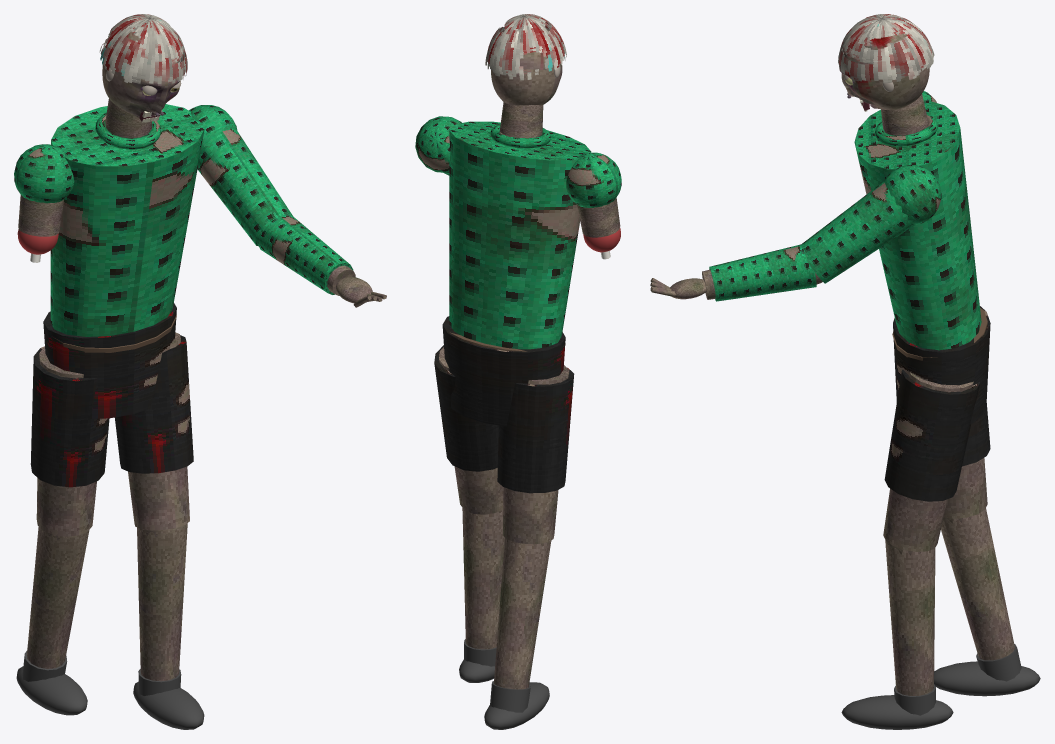
File: Zombie_130.glb
The picture shows the model from 3 angles, left to right: view 1: azimuth 30°, elevation 25°; view 2: azimuth 150°, elevation 25°; view 3: azimuth 270°, elevation 25°; orthographic projection. The views are drawn at different scales.
Parts seen in each view (by area): view 1: Zombie_130, object 37, object 4, object 10, object 5; view 2: Zombie_130, object 37, object 10, object 36; view 3: Zombie_130, object 37, object 4, object 10.
Part boxes in pixels (<box>): Zombie_130: <box>14,99,292,729</box>; object 37: <box>99,14,187,83</box>; object 4: <box>257,214,353,294</box>; object 10: <box>102,31,180,117</box>; object 5: <box>336,276,372,303</box>; Zombie_130: <box>415,102,621,729</box>; object 37: <box>485,14,566,77</box>; object 10: <box>491,28,562,105</box>; object 36: <box>487,22,565,80</box>; Zombie_130: <box>801,91,1040,729</box>; object 37: <box>838,14,934,80</box>; object 4: <box>709,244,816,301</box>; object 10: <box>839,33,929,110</box>.
Size of the model in its own units: 0.6825 by 1.96 by 0.9978.
18 materials, 6 textured.
